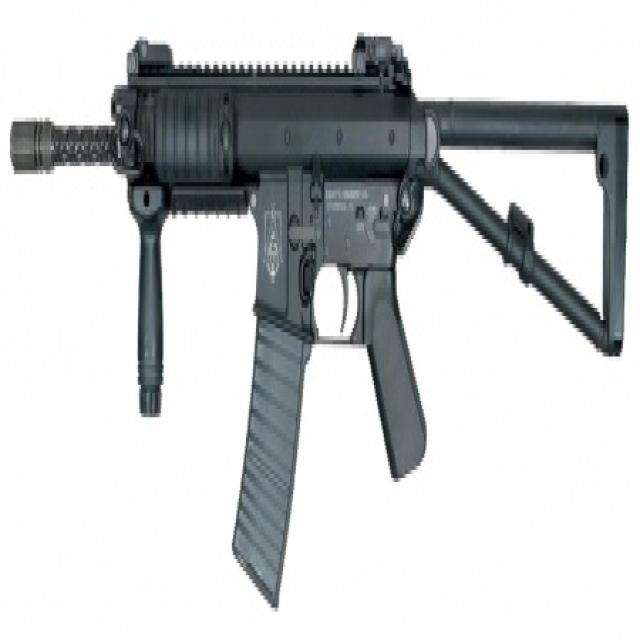rifle: (9, 12, 632, 623)
